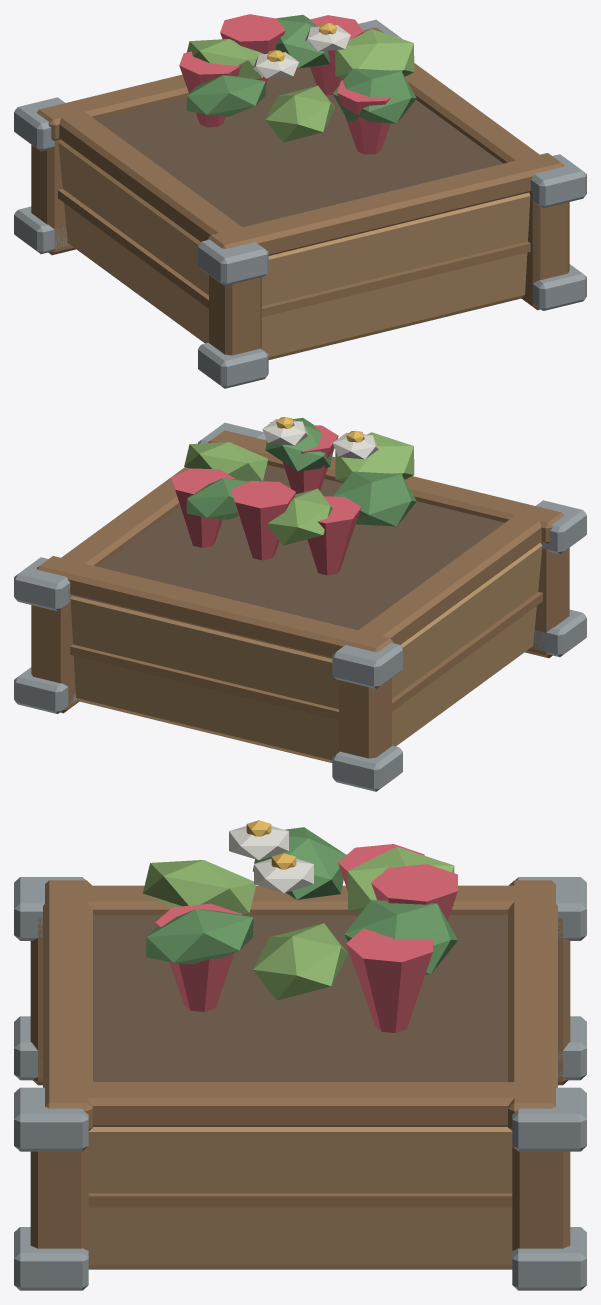
File: BUILD0038_PlanterBox_Strawberry.fbx
3 renders of one model, top to bottom at view 1: azimuth 30°, elevation 25°; view 2: azimuth 150°, elevation 25°; view 3: azimuth 270°, elevation 25°, orthographic. The views are drawn at different scales.
Parts seen in each view (by area): view 1: BUILD0038_PlanterBox_Strawberry, CropFoliageRoot.004, CropFruitRoot.004; view 2: BUILD0038_PlanterBox_Strawberry, CropFoliageRoot.004, CropFruitRoot.004; view 3: BUILD0038_PlanterBox_Strawberry, CropFoliageRoot.004, CropFruitRoot.004.
Boxes of the visible parts, box(x1,y1,x2,y2) form: BUILD0038_PlanterBox_Strawberry: box(14, 19, 586, 388); CropFoliageRoot.004: box(186, 14, 416, 142); CropFruitRoot.004: box(179, 14, 390, 154); BUILD0038_PlanterBox_Strawberry: box(14, 422, 586, 791); CropFoliageRoot.004: box(184, 417, 416, 545); CropFruitRoot.004: box(171, 425, 361, 575); BUILD0038_PlanterBox_Strawberry: box(14, 877, 586, 1290); CropFoliageRoot.004: box(142, 820, 457, 1000); CropFruitRoot.004: box(155, 844, 457, 1032).
Size of the model in its own units: 1.38 by 0.9 by 1.38.
